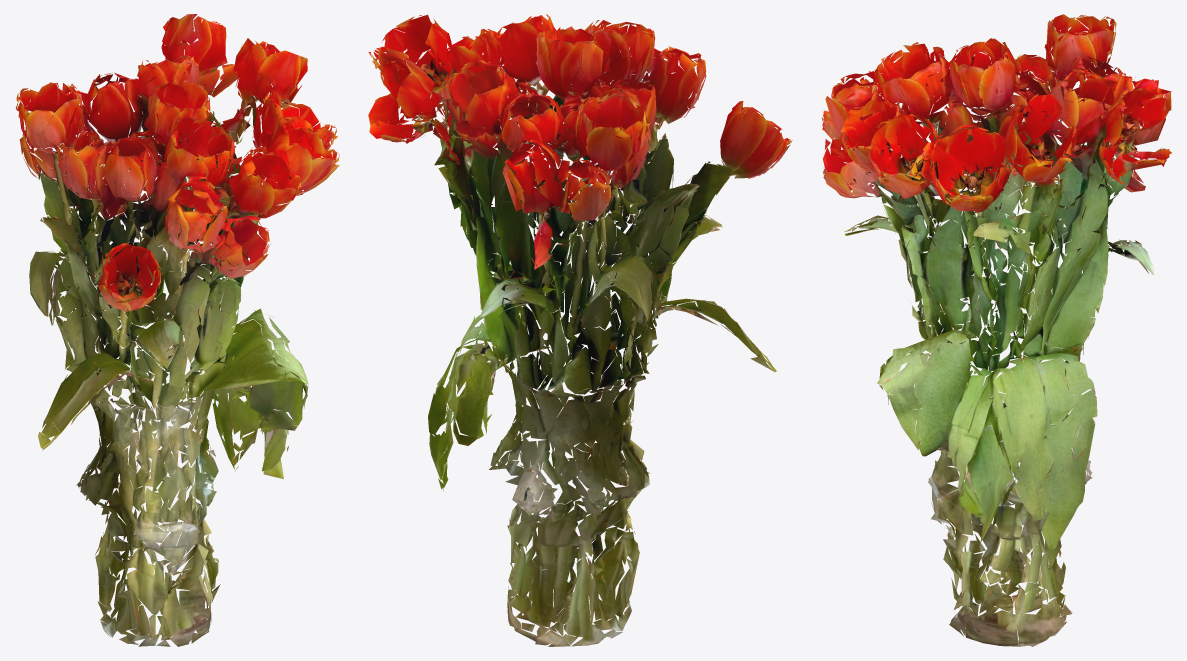
3 views of the same model, side by side, from view 1: azimuth 30°, elevation 25°; view 2: azimuth 150°, elevation 25°; view 3: azimuth 270°, elevation 25° (orthographic). The views are drawn at different scales.
Parts seen in each view (by area): view 1: Object_4, Object_5; view 2: Object_4, Object_5; view 3: Object_4, Object_5.
Part boxes in pixels (x1=…): Object_4: x1=15, y1=14, x2=339, y2=646; Object_5: x1=16, y1=16, x2=339, y2=601; Object_4: x1=368, y1=14, x2=783, y2=646; Object_5: x1=375, y1=14, x2=792, y2=598; Object_4: x1=822, y1=16, x2=1171, y2=646; Object_5: x1=822, y1=14, x2=1171, y2=631.
Size of the model in its own units: 0.2068 by 0.3385 by 0.1837.
1 material, 1 textured.
